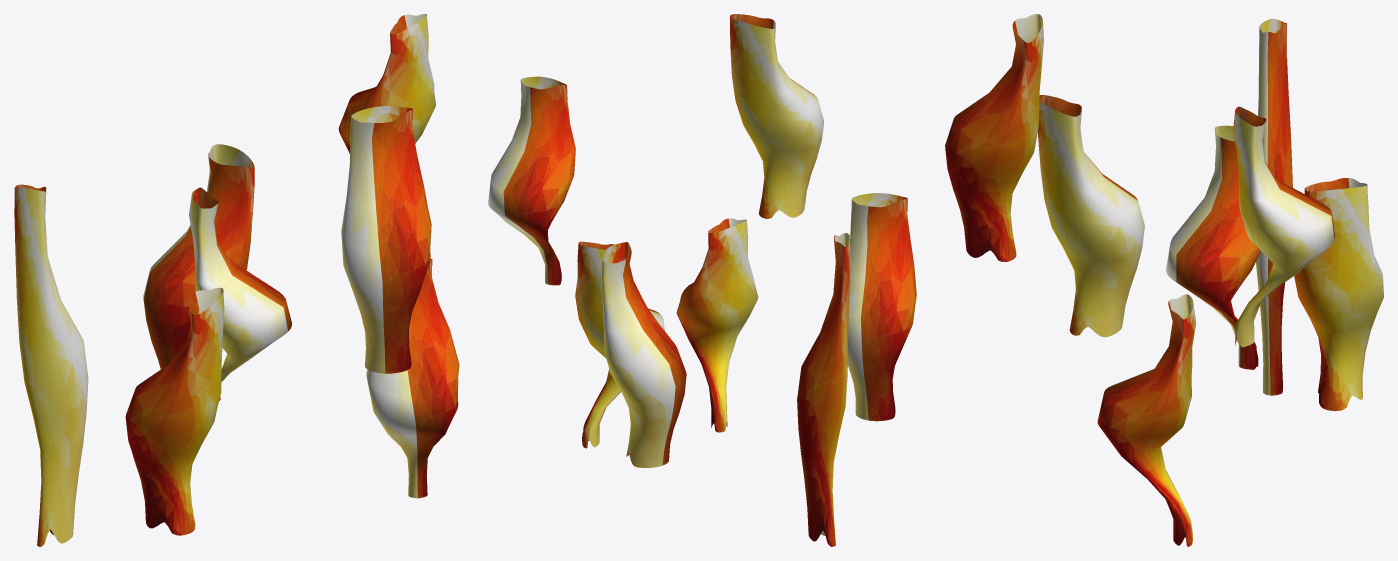
The model's file is пожар.fbx.
3 renders of one model, left to right at view 1: azimuth 30°, elevation 25°; view 2: azimuth 150°, elevation 25°; view 3: azimuth 270°, elevation 25°, orthographic. The views are drawn at different scales.
Parts seen in each view (by area): view 1: Объект_Цилиндр_7, Объект_Цилиндр_2, Объект_Цилиндр_1, Объект_Цилиндр_5, Объект_Цилиндр_3, Объект_Цилиндр_6, Объект_Цилиндр_4; view 2: Объект_Цилиндр_1, Объект_Цилиндр_7, Объект_Цилиндр_3, Объект_Цилиндр_4, Объект_Цилиндр_2, Объект_Цилиндр_6, Объект_Цилиндр_5; view 3: Объект_Цилиндр_1, Объект_Цилиндр_7, Объект_Цилиндр_3, Объект_Цилиндр_5, Объект_Цилиндр_4, Объект_Цилиндр_6, Объект_Цилиндр_2.
Boxes of the visible parts, bbox=[...] form: Объект_Цилиндр_7: bbox=[341, 106, 431, 373]; Объект_Цилиндр_2: bbox=[14, 184, 88, 546]; Объект_Цилиндр_1: bbox=[125, 287, 224, 535]; Объект_Цилиндр_5: bbox=[366, 259, 459, 498]; Объект_Цилиндр_3: bbox=[143, 144, 254, 400]; Объект_Цилиндр_6: bbox=[189, 187, 291, 381]; Объект_Цилиндр_4: bbox=[338, 14, 435, 153]; Объект_Цилиндр_1: bbox=[848, 193, 916, 421]; Объект_Цилиндр_7: bbox=[730, 14, 824, 218]; Объект_Цилиндр_3: bbox=[601, 242, 686, 467]; Объект_Цилиндр_4: bbox=[488, 76, 575, 285]; Объект_Цилиндр_2: bbox=[797, 233, 850, 546]; Объект_Цилиндр_6: bbox=[676, 218, 758, 432]; Объект_Цилиндр_5: bbox=[575, 241, 664, 448]; Объект_Цилиндр_1: bbox=[1037, 95, 1144, 337]; Объект_Цилиндр_7: bbox=[945, 14, 1043, 261]; Объект_Цилиндр_3: bbox=[1294, 178, 1383, 411]; Объект_Цилиндр_5: bbox=[1097, 294, 1196, 546]; Объект_Цилиндр_4: bbox=[1233, 106, 1335, 347]; Объект_Цилиндр_6: bbox=[1166, 125, 1263, 369]; Объект_Цилиндр_2: bbox=[1256, 19, 1292, 395].
Bounding box in the file's own units: 213 × 233 × 199.
Materials: 1 (1 with a texture image).
